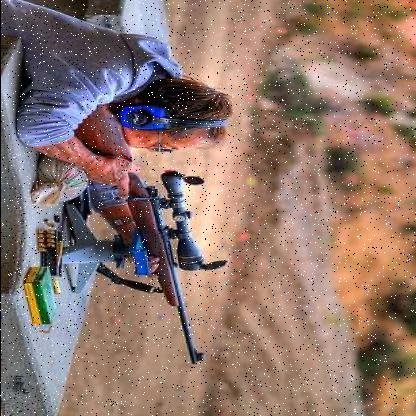rifle: (54, 96, 244, 376)
